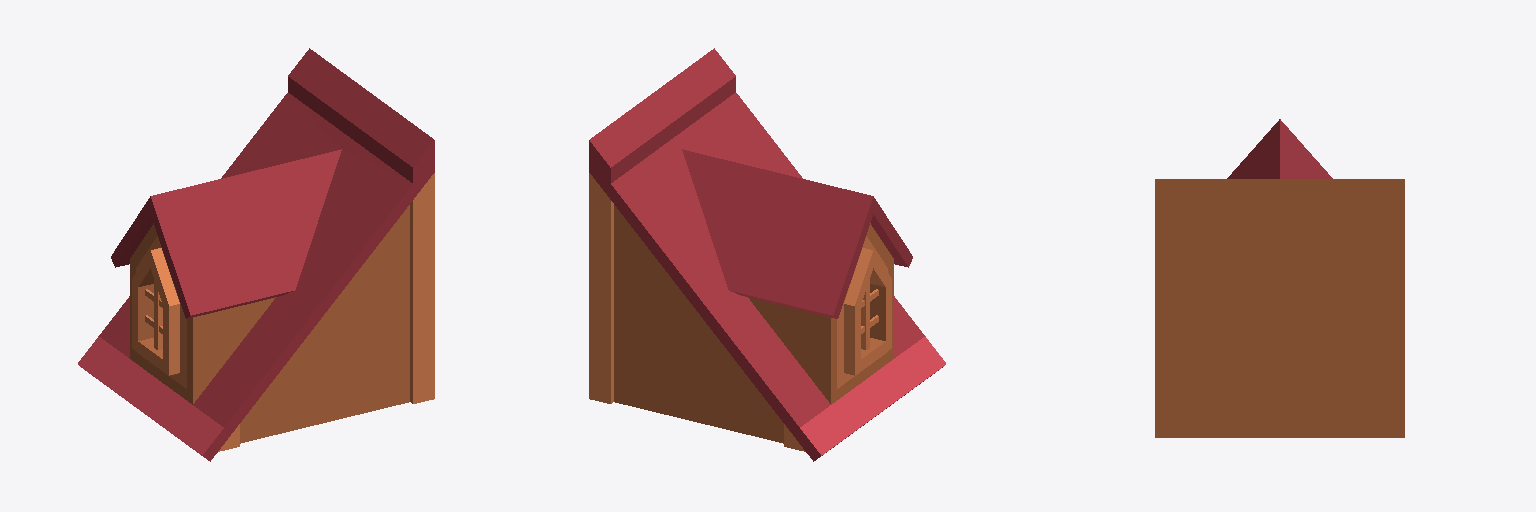
The model's file is roofHighWindow.obj.
3 views of the same model, side by side, from view 1: azimuth 30°, elevation 25°; view 2: azimuth 150°, elevation 25°; view 3: azimuth 270°, elevation 25° (orthographic).
Parts seen in each view (by area): view 1: roofHighWindow; view 2: roofHighWindow; view 3: roofHighWindow.
Part boxes in pixels (x1,y1,x2,y2): roofHighWindow: (78, 48, 434, 461); roofHighWindow: (589, 48, 945, 461); roofHighWindow: (1155, 119, 1404, 437).
Bounding box in the file's own units: 1.07 × 1.18 × 1.